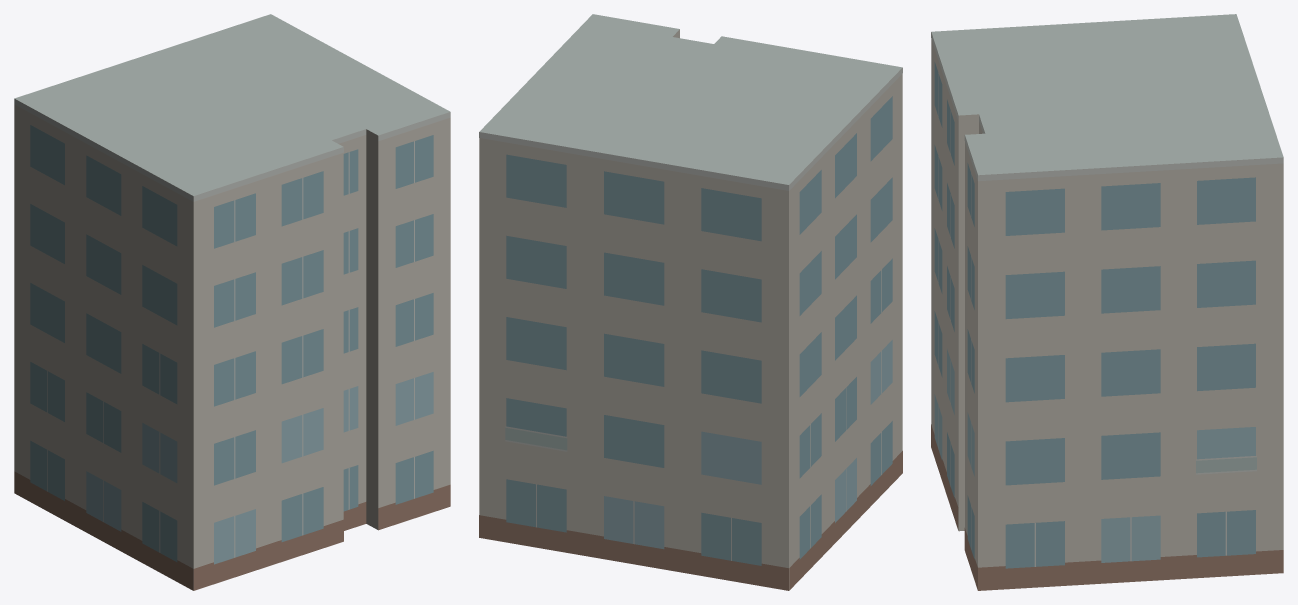
The model's file is survey-upis-32532888.glb.
3 views of the same model, side by side, from view 1: azimuth 30°, elevation 25°; view 2: azimuth 150°, elevation 25°; view 3: azimuth 270°, elevation 25° (orthographic). The views are drawn at different scales.
Parts seen in each view (by area): view 1: survey-upis-32532888.tmp; view 2: survey-upis-32532888.tmp; view 3: survey-upis-32532888.tmp.
Part boxes in pixels (x1,y1,x2,y2): survey-upis-32532888.tmp: (14, 14, 450, 590); survey-upis-32532888.tmp: (479, 14, 902, 590); survey-upis-32532888.tmp: (931, 14, 1283, 590).
Bounding box in the file's own units: 13.92 × 16.73 × 12.87.
